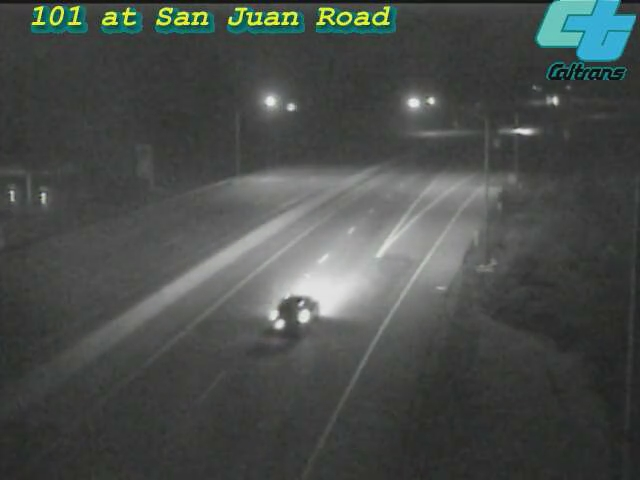vehicle: (252, 273, 332, 353), (494, 107, 544, 157)
